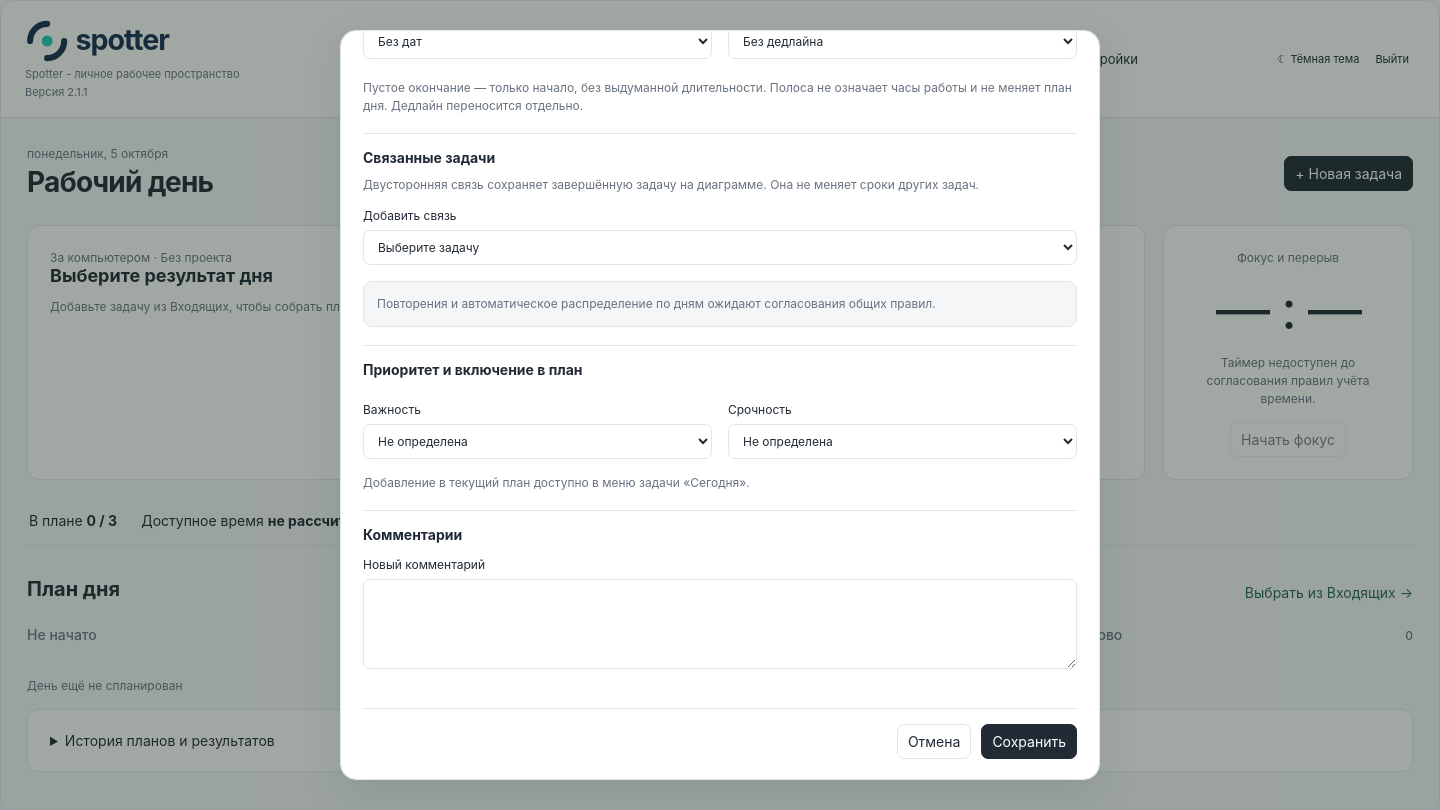
Test: opens a direct task route and closes to inbox
The width and height of the screenshot is (1440, 810).
(page scrolled)
Expected: the dialog is shown, [340,30,1100,780]
Click the button "Отмена" at [934, 742], box [897,724,971,759]
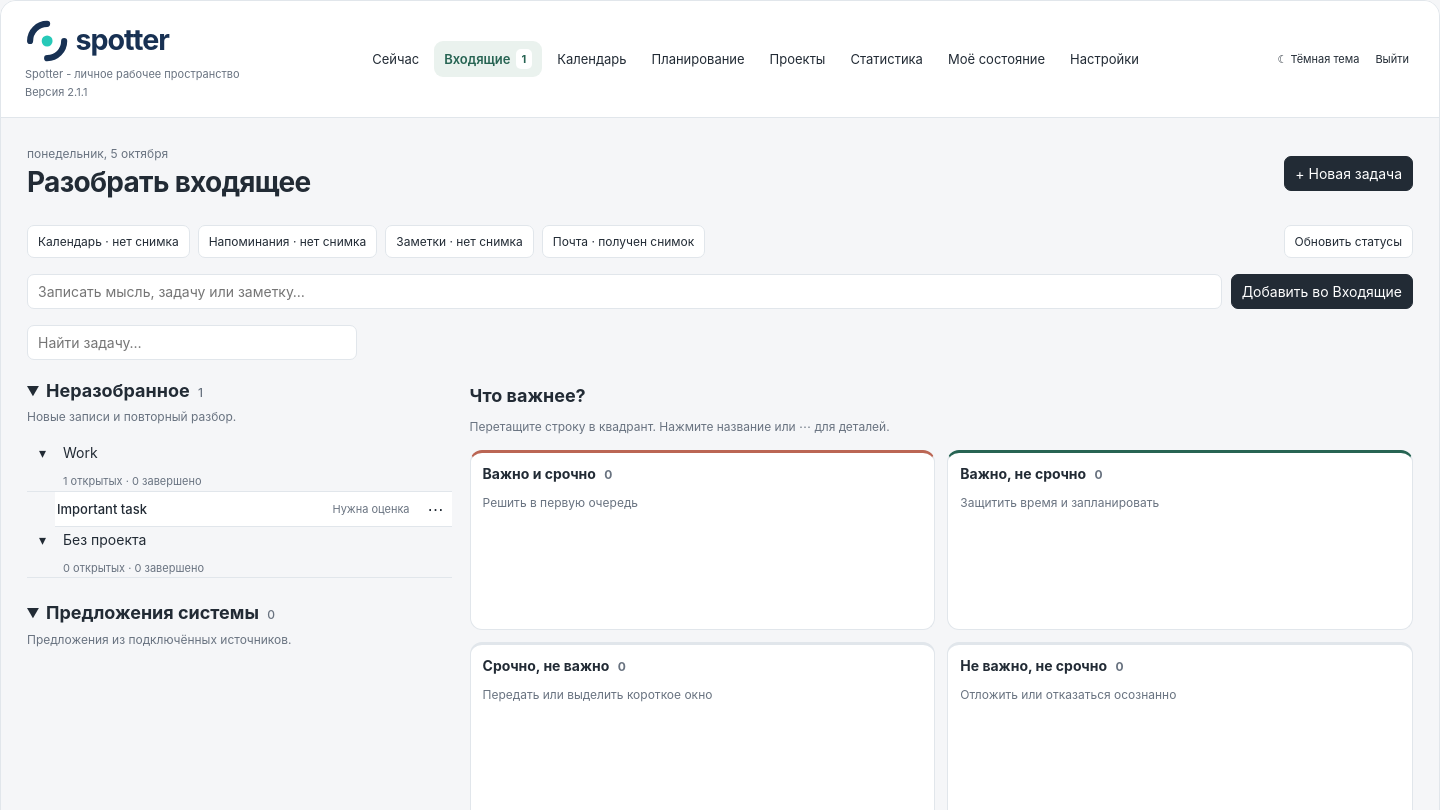
Now the field named "Поиск задач" is shown, box [27,325,357,360]
